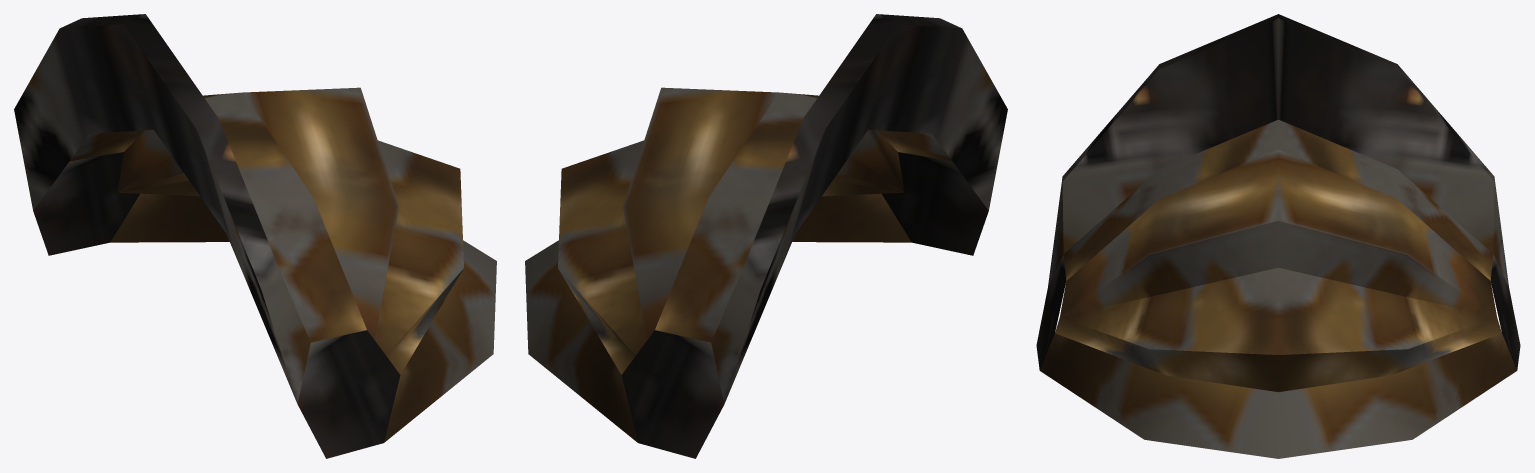
Rendered from plate_shoulder_drop.fbx.
3 renders of one model, left to right at view 1: azimuth 30°, elevation 25°; view 2: azimuth 150°, elevation 25°; view 3: azimuth 270°, elevation 25°, orthographic. The views are drawn at different scales.
Visible parts, largest first — view 1: Plate_Set/shoulders; view 2: Plate_Set/shoulders; view 3: Plate_Set/shoulders.
Boxes of the visible parts, <box> form: Plate_Set/shoulders: <box>14,14,496,458</box>; Plate_Set/shoulders: <box>525,14,1007,458</box>; Plate_Set/shoulders: <box>1036,14,1520,458</box>.
Size of the model in its own units: 0.3232 by 0.2923 by 0.4158.
